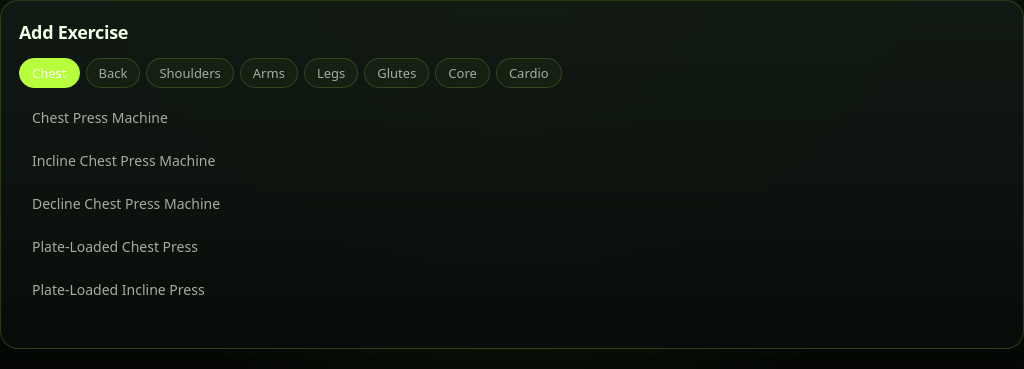
Test: ExerciseSelector › switches to cardio tab and shows cardio equipment
The width and height of the screenshot is (1024, 369).
Click the button "Cardio" at (529, 73), box top-left (496, 58), bottom-right (562, 88)
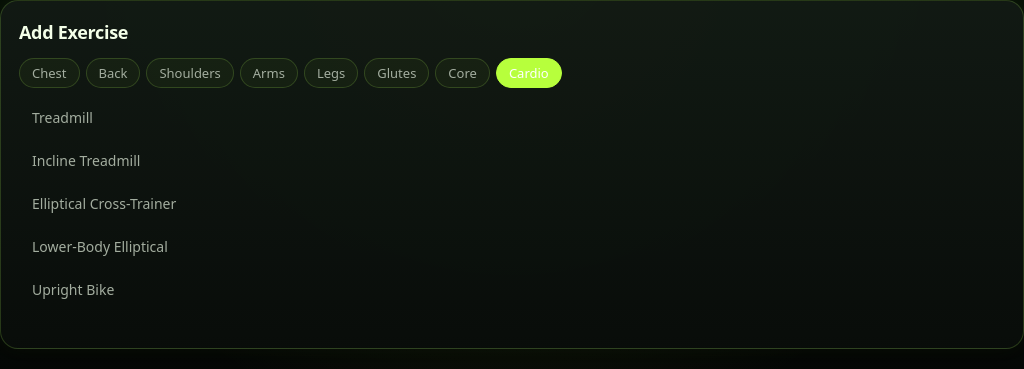
Now the button "Treadmill" is shown, box top-left (19, 98), bottom-right (1005, 137)
